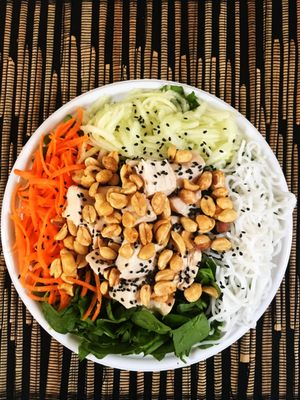sushi: (1, 78, 297, 393)
